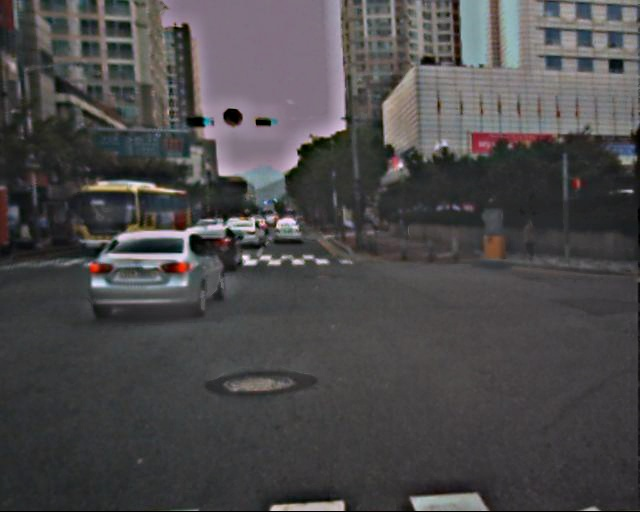person: (520, 219, 539, 266)
